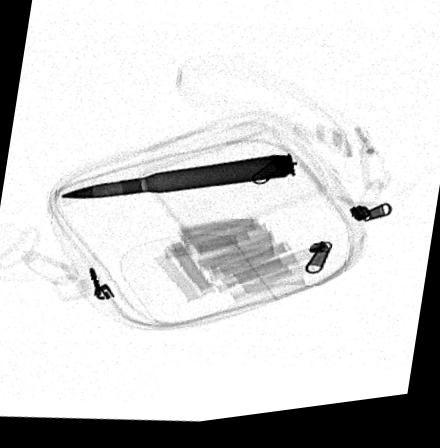Bullet: (55, 161, 298, 202)
